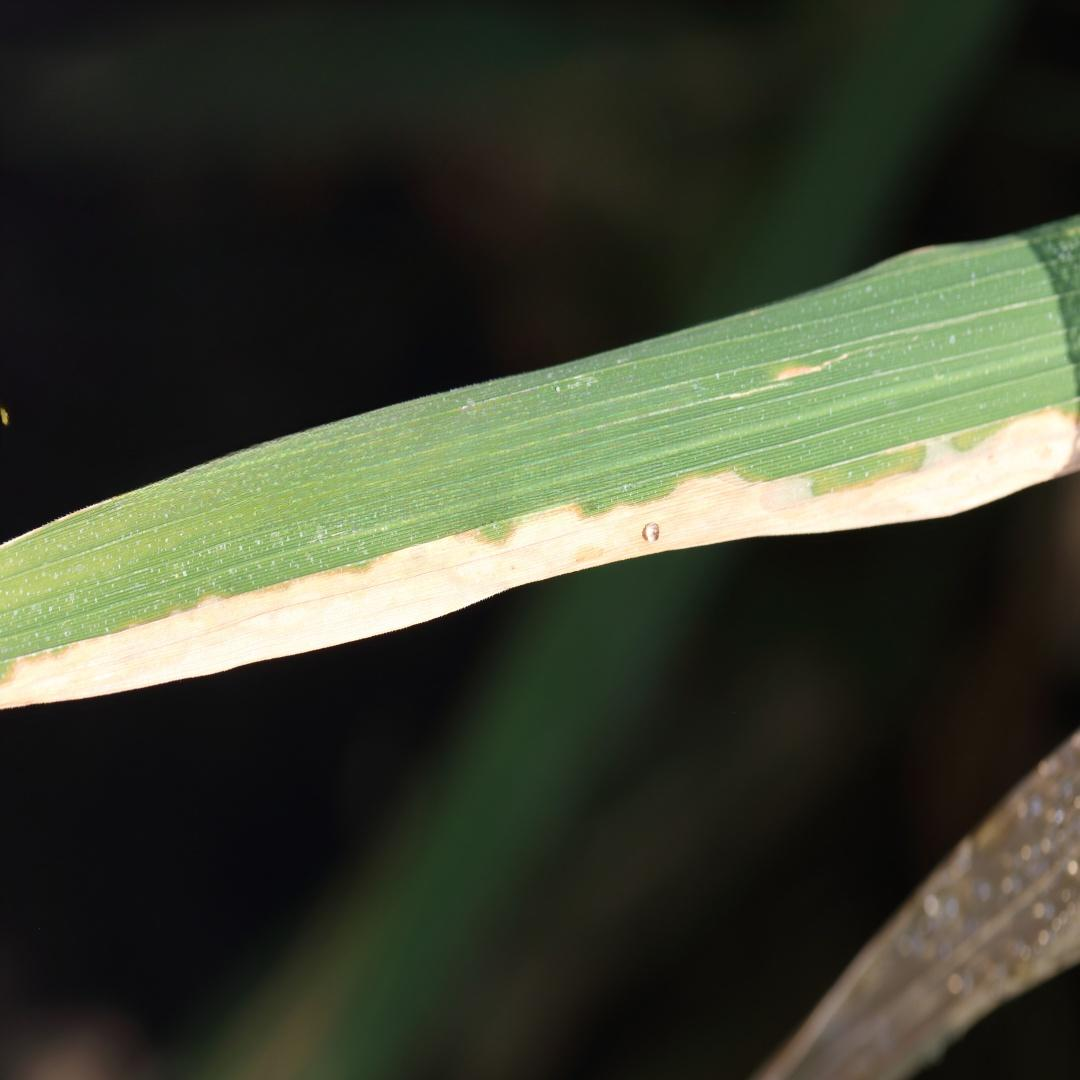BLB: (0, 405, 1079, 709)
LEAF: (0, 218, 1079, 710)
